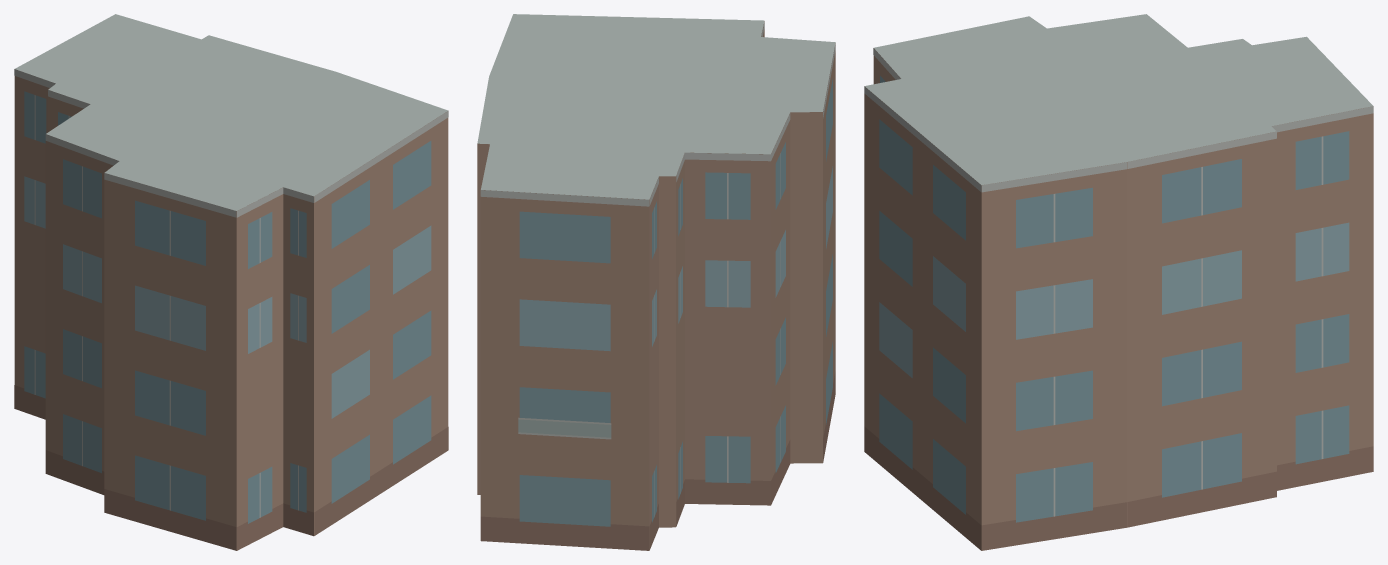
Rendered from survey-upis-32598513.glb.
3 renders of one model, left to right at view 1: azimuth 30°, elevation 25°; view 2: azimuth 150°, elevation 25°; view 3: azimuth 270°, elevation 25°, orthographic. The views are drawn at different scales.
Parts seen in each view (by area): view 1: survey-upis-32598513.tmp; view 2: survey-upis-32598513.tmp; view 3: survey-upis-32598513.tmp.
Part boxes in pixels (x1,y1,x2,y2): survey-upis-32598513.tmp: (14, 14, 448, 550); survey-upis-32598513.tmp: (477, 14, 835, 550); survey-upis-32598513.tmp: (864, 14, 1373, 550).
Bounding box in the file's own units: 12.41 × 12.35 × 15.6.
